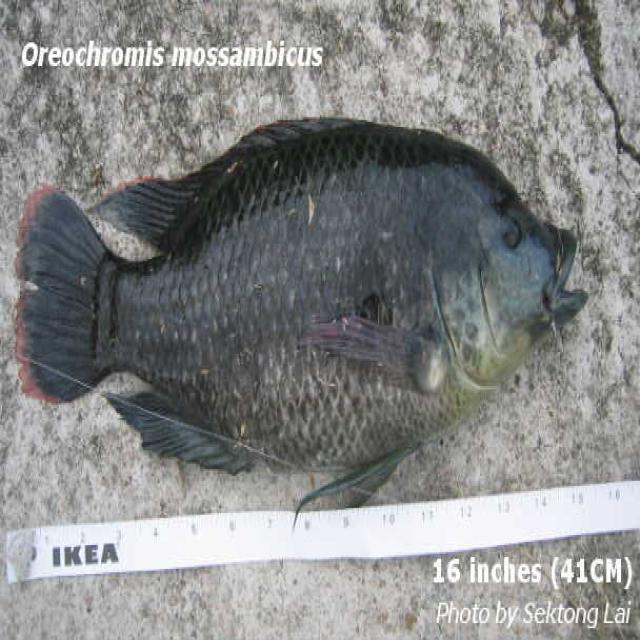ikan: (9, 99, 602, 535)
